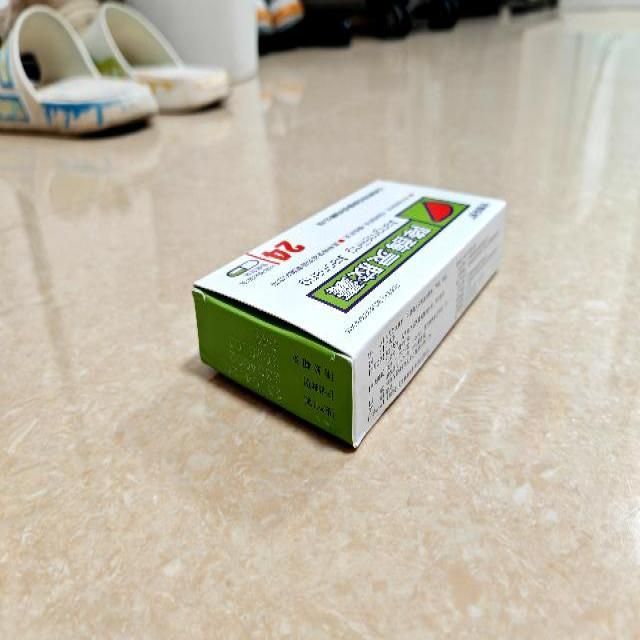box: (191, 176, 507, 452)
